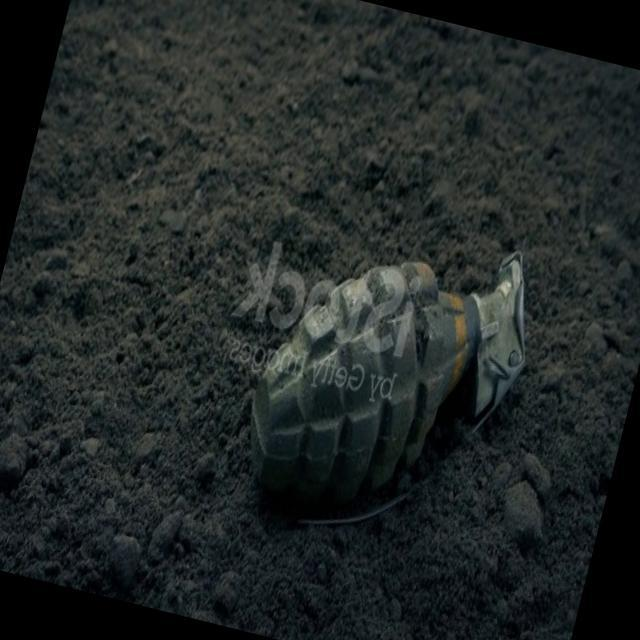grenade: (217, 192, 558, 568)
